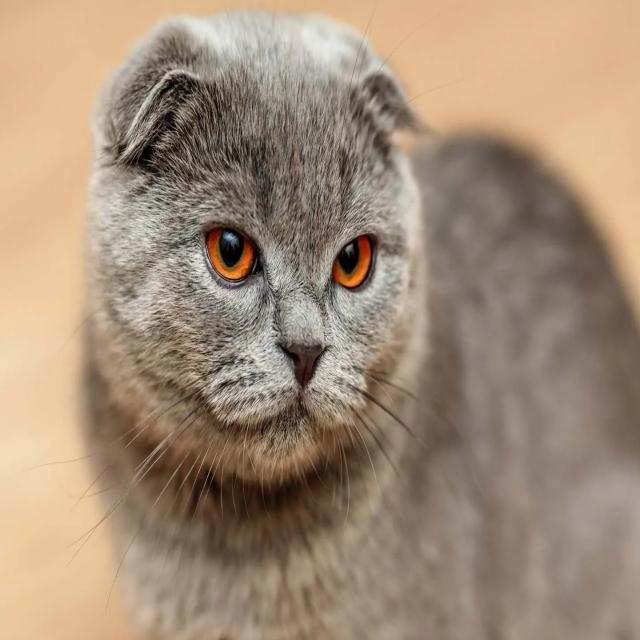Scottish Fold: (72, 3, 640, 640)
